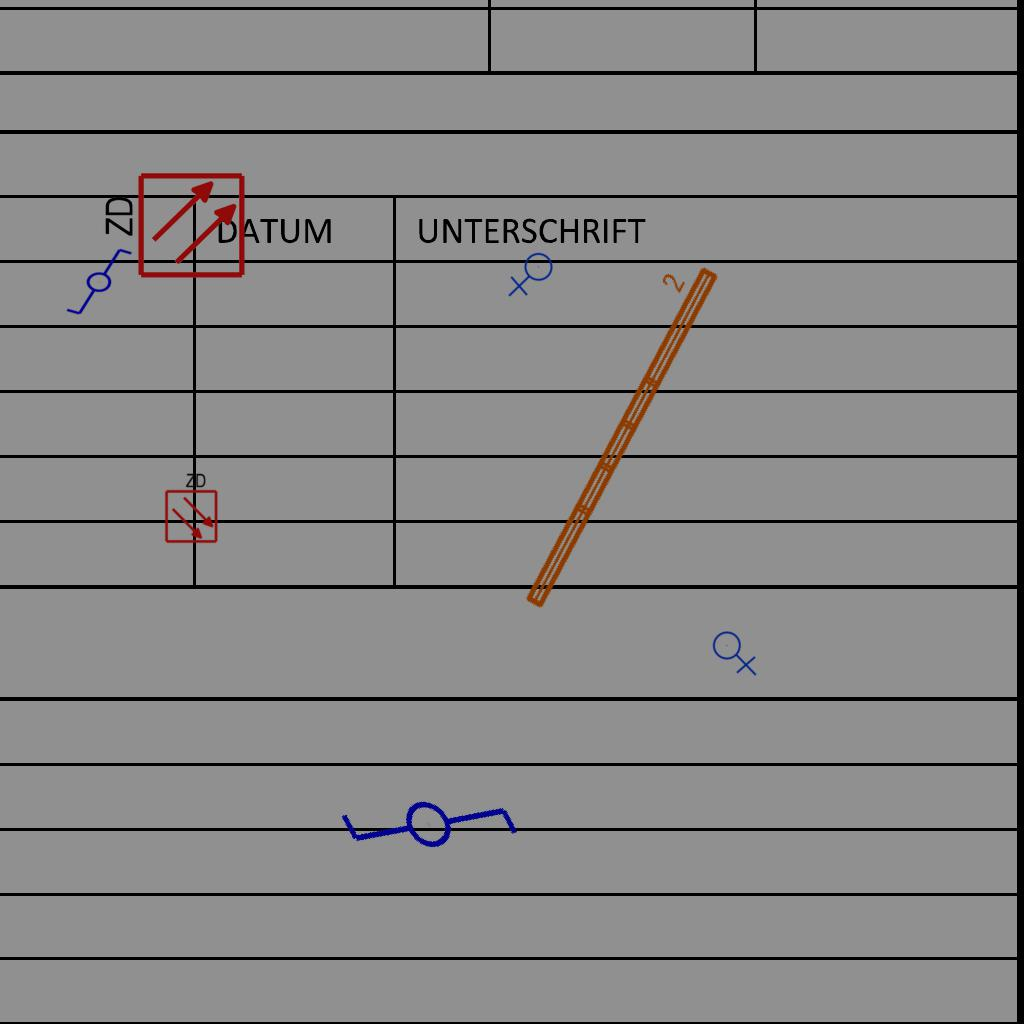Ambulanz_Pendelleuchte_LED: (494, 248, 727, 616)
Elektroanschluss_allgemein_230V_Geraeteanschlussdose_230V: (712, 627, 759, 676), (508, 252, 557, 299)
Wechselschalter: (318, 710, 531, 924), (56, 245, 134, 317)
ZD_Melder_in_Zwischendecke_mit_Revisionsoeffnung_mind_40_x_40_cm: (98, 170, 247, 284), (162, 470, 219, 544)
